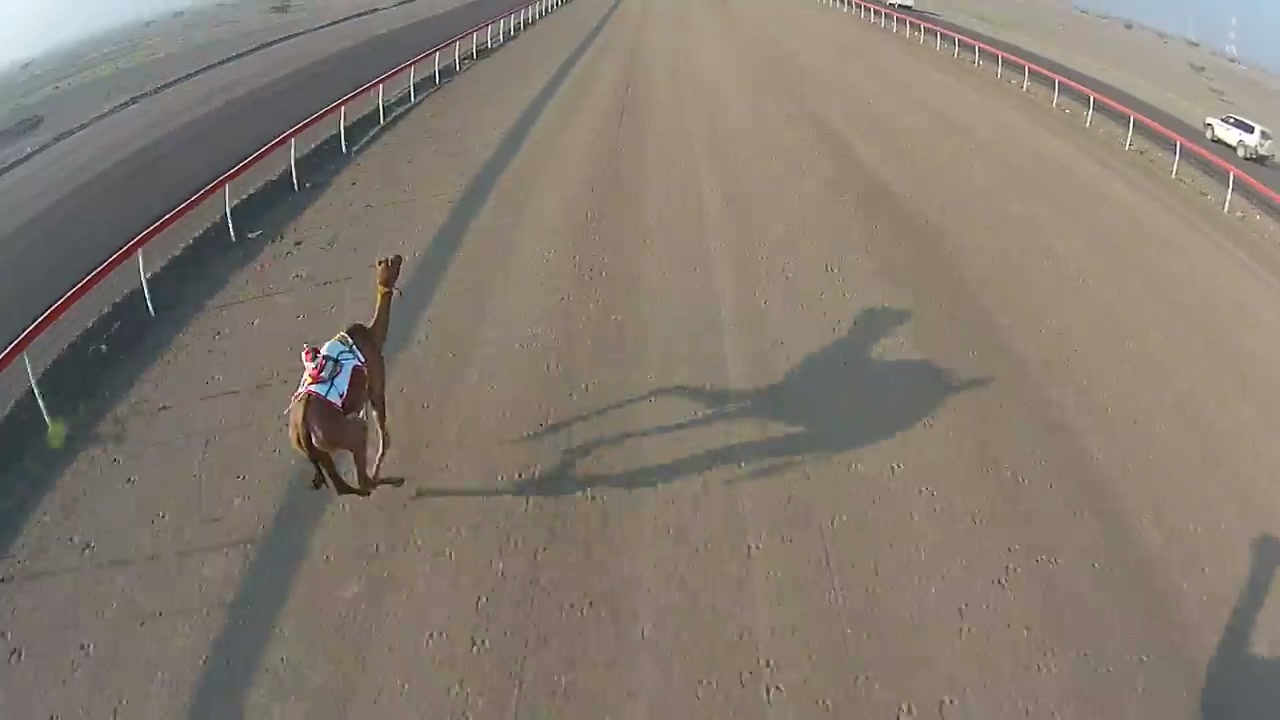animal_footprint: (6, 257, 308, 697)
